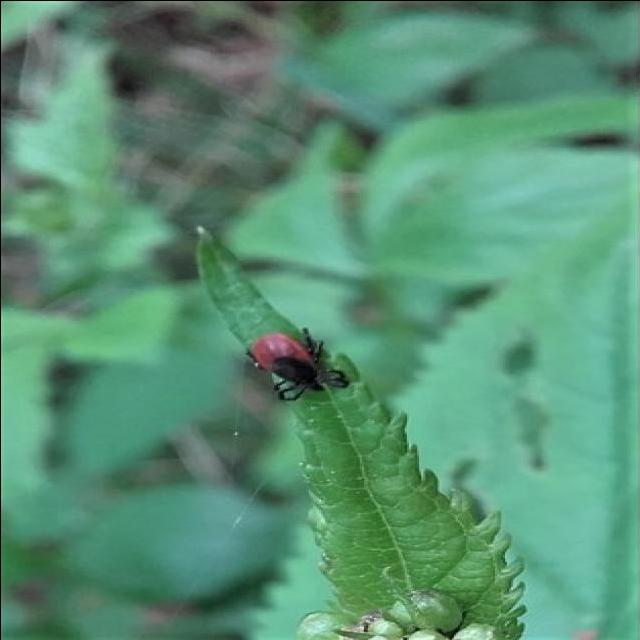Ixodes Ricinus-F: (247, 326, 350, 401)
